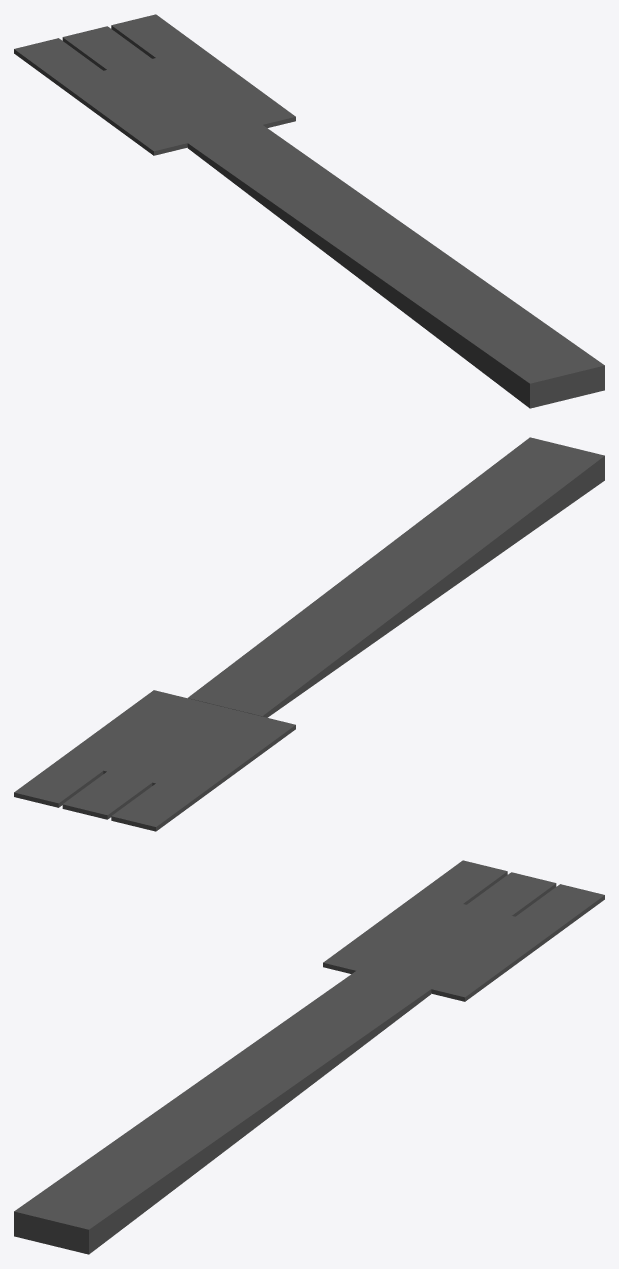
The model's file is Itr_Obj_Fork_04.FBX.
3 views of the same model, one above another, from view 1: azimuth 30°, elevation 25°; view 2: azimuth 150°, elevation 25°; view 3: azimuth 330°, elevation 25° (orthographic).
Parts seen in each view (by area): view 1: Itr_Obj_Fork_04; view 2: Itr_Obj_Fork_04; view 3: Itr_Obj_Fork_04.
Part boxes in pixels (<box>): Itr_Obj_Fork_04: <box>14,14,604,408</box>; Itr_Obj_Fork_04: <box>14,437,604,831</box>; Itr_Obj_Fork_04: <box>14,860,604,1254</box>.
Size of the model in its own units: 0.8283 by 0.1387 by 4.87.
